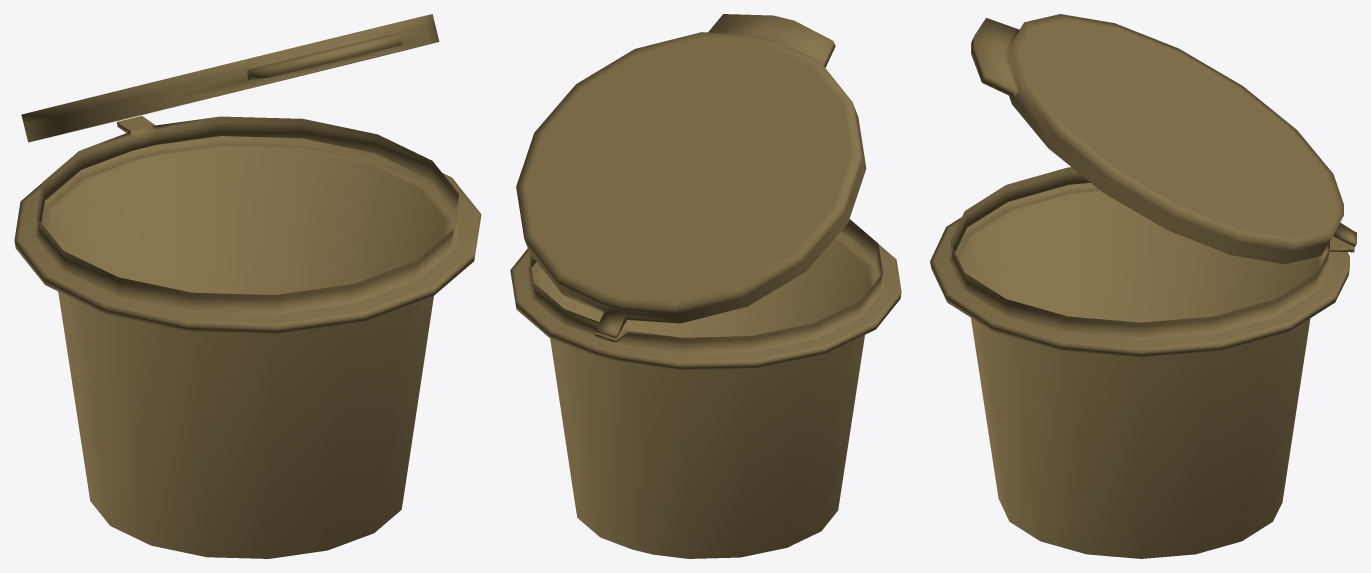
File: Mesh_SauceCup.fbx
3 views of the same model, side by side, from view 1: azimuth 30°, elevation 25°; view 2: azimuth 150°, elevation 25°; view 3: azimuth 270°, elevation 25° (orthographic). The views are drawn at different scales.
Visible parts, largest first — view 1: saiceciup_main, saucercup_lid; view 2: saucercup_lid, saiceciup_main; view 3: saiceciup_main, saucercup_lid.
Boxes of the visible parts, x1=… form: saiceciup_main: x1=14, y1=116, x2=481, y2=558; saucercup_lid: x1=21, y1=14, x2=439, y2=142; saucercup_lid: x1=516, y1=14, x2=866, y2=338; saiceciup_main: x1=510, y1=219, x2=901, y2=558; saiceciup_main: x1=930, y1=167, x2=1354, y2=558; saucercup_lid: x1=971, y1=14, x2=1356, y2=264.
Bounding box in the file's own units: 7 × 8.38 × 7.08.
